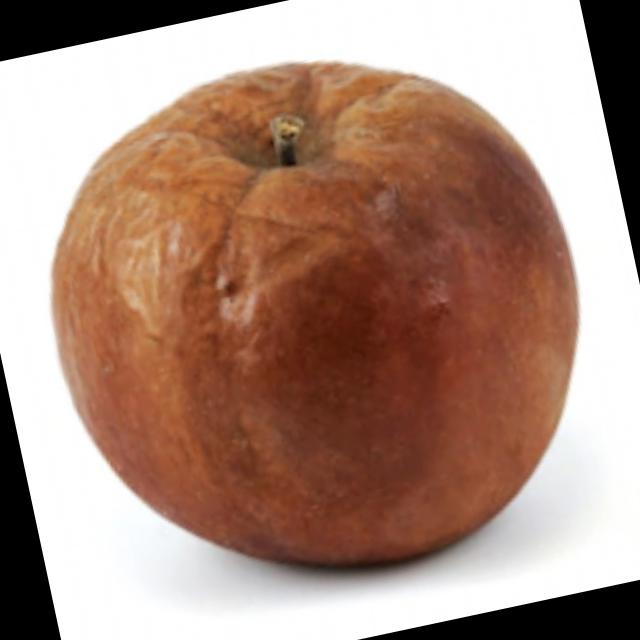rotten_apple: (6, 4, 622, 618)
